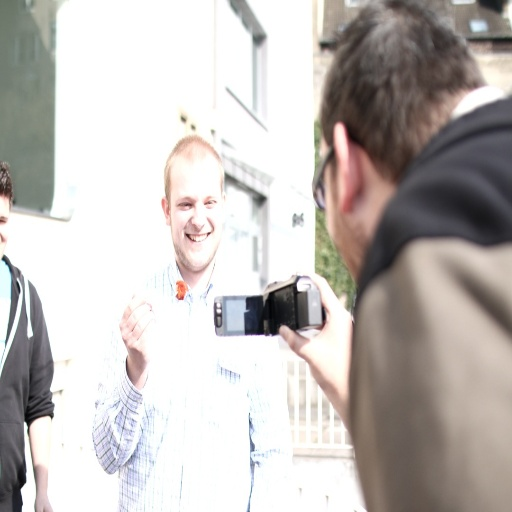hand: (278, 268, 354, 438), (111, 298, 153, 369), (34, 494, 53, 510)
